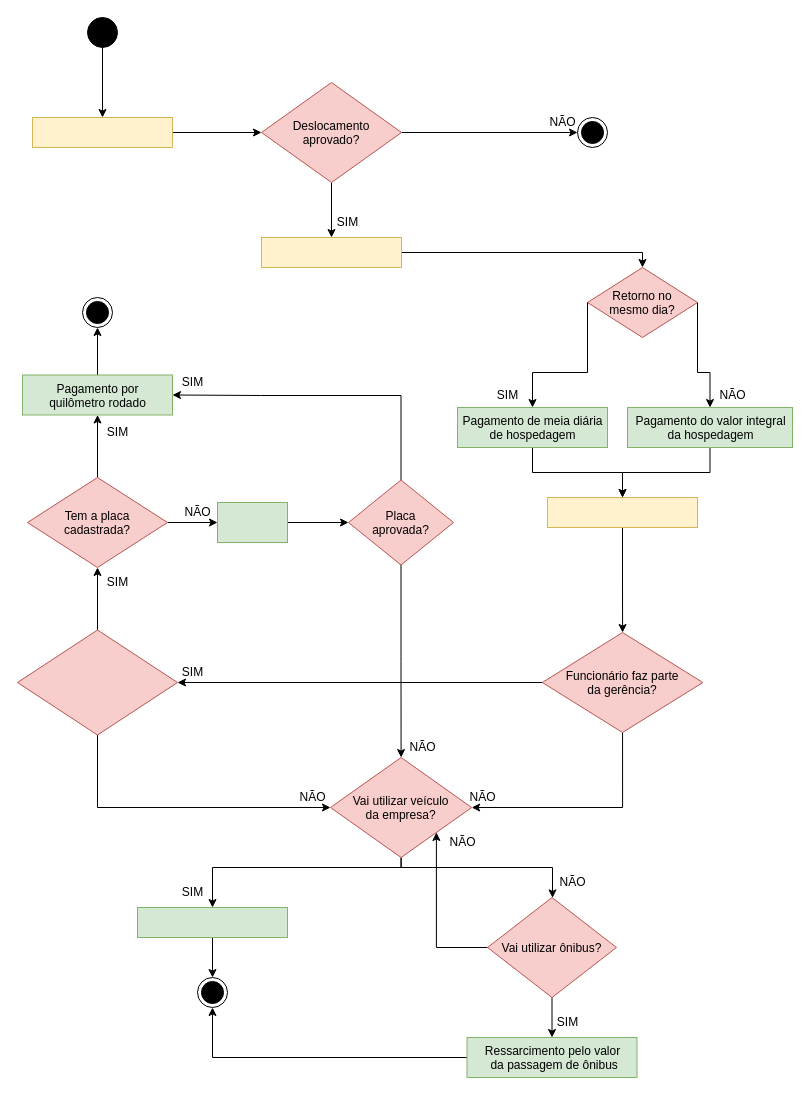
The diagram is 810 pixels wide and 1095 high, and some of its shapes have lost their labels. The centre of each missing label's shape, as x and y in pixels:
Deseja utilizar veículo próprio?: pixel 97 682
Sem indenização: pixel 212 922
Solicita a diária: pixel 331 252
Solicita deslocamento: pixel 102 132
Solicita o transporte: pixel 622 512
Solicitar aprovação: pixel 252 522
